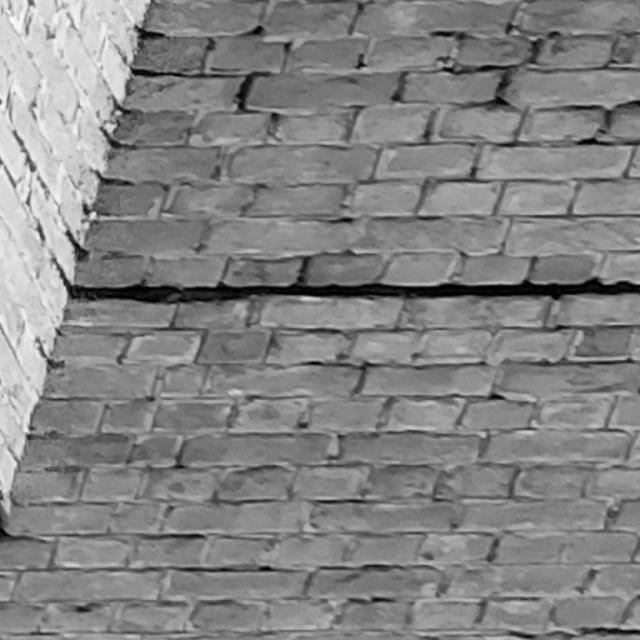crack: (52, 257, 640, 305)
